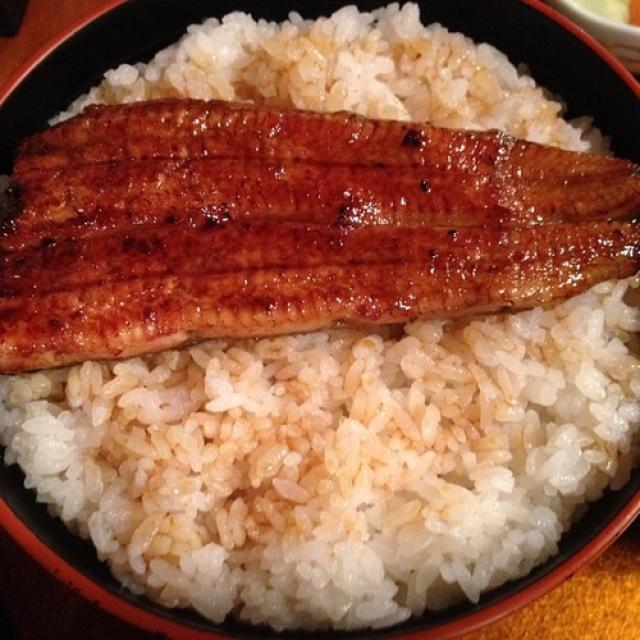熟制海鲜: (5, 5, 634, 621)
